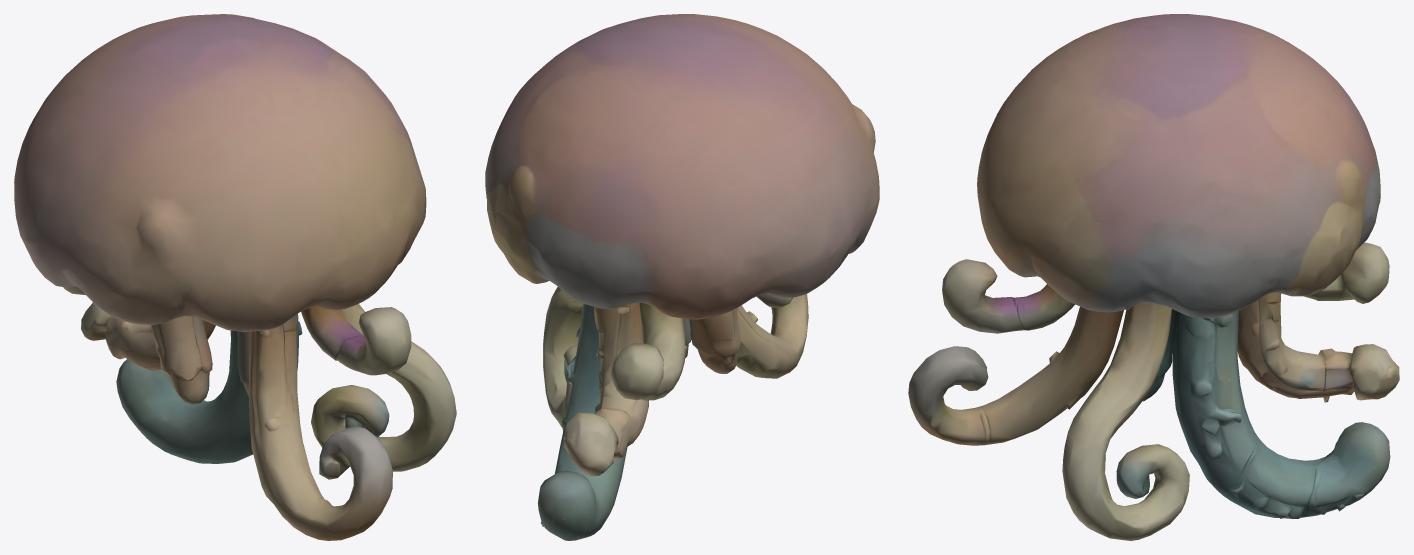
File: legs.glb
3 renders of one model, left to right at view 1: azimuth 30°, elevation 25°; view 2: azimuth 150°, elevation 25°; view 3: azimuth 270°, elevation 25°, orthographic. The views are drawn at different scales.
Parts seen in each view (by area): view 1: tripo_node_bcf76a7b-3e73-4ab5-bbad-a07b78ddd1b0; view 2: tripo_node_bcf76a7b-3e73-4ab5-bbad-a07b78ddd1b0; view 3: tripo_node_bcf76a7b-3e73-4ab5-bbad-a07b78ddd1b0.
Part boxes in pixels (box(x1,y1,x2,y2)): tripo_node_bcf76a7b-3e73-4ab5-bbad-a07b78ddd1b0: box(14, 14, 456, 540); tripo_node_bcf76a7b-3e73-4ab5-bbad-a07b78ddd1b0: box(485, 14, 879, 540); tripo_node_bcf76a7b-3e73-4ab5-bbad-a07b78ddd1b0: box(908, 14, 1399, 540).
Size of the model in its own units: 0.7962 by 1 by 0.9641.
Materials: 1 (1 with a texture image).
